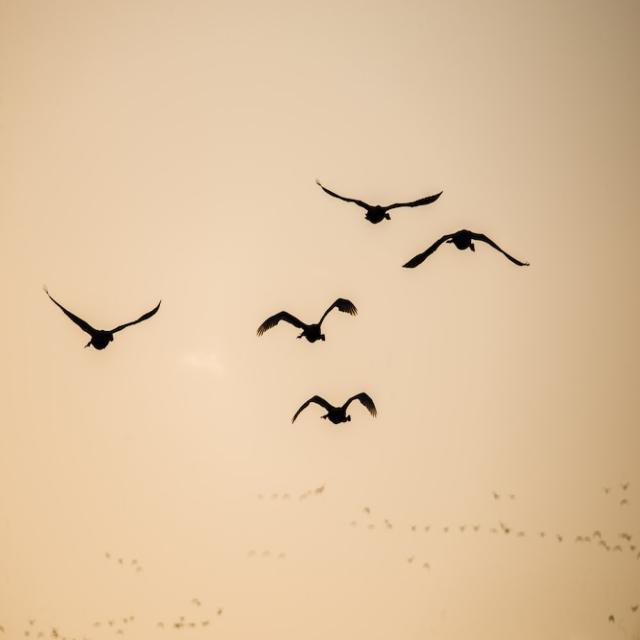bird: (38, 263, 200, 403), (290, 146, 444, 252), (390, 227, 562, 320), (242, 276, 396, 378), (269, 368, 388, 450)
